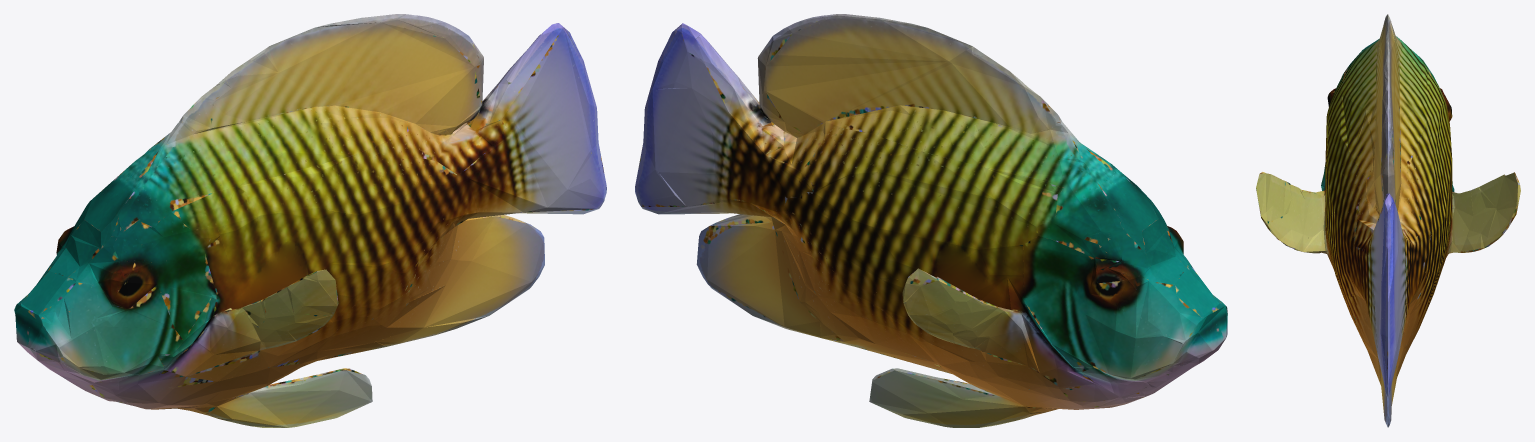
The model's file is fish_0106_smpl23_resized.glb.
3 renders of one model, left to right at view 1: azimuth 30°, elevation 25°; view 2: azimuth 150°, elevation 25°; view 3: azimuth 270°, elevation 25°, orthographic. The views are drawn at different scales.
Visible parts, largest first — view 1: world; view 2: world; view 3: world.
Boxes of the visible parts, left/top/right/bottom form: world: left=14, top=14, right=606, bottom=427; world: left=635, top=14, right=1227, bottom=427; world: left=1256, top=14, right=1520, bottom=427.
Bounding box in the file's own units: 1.99 × 1.29 × 0.822.
Materials: 1 (1 with a texture image).
